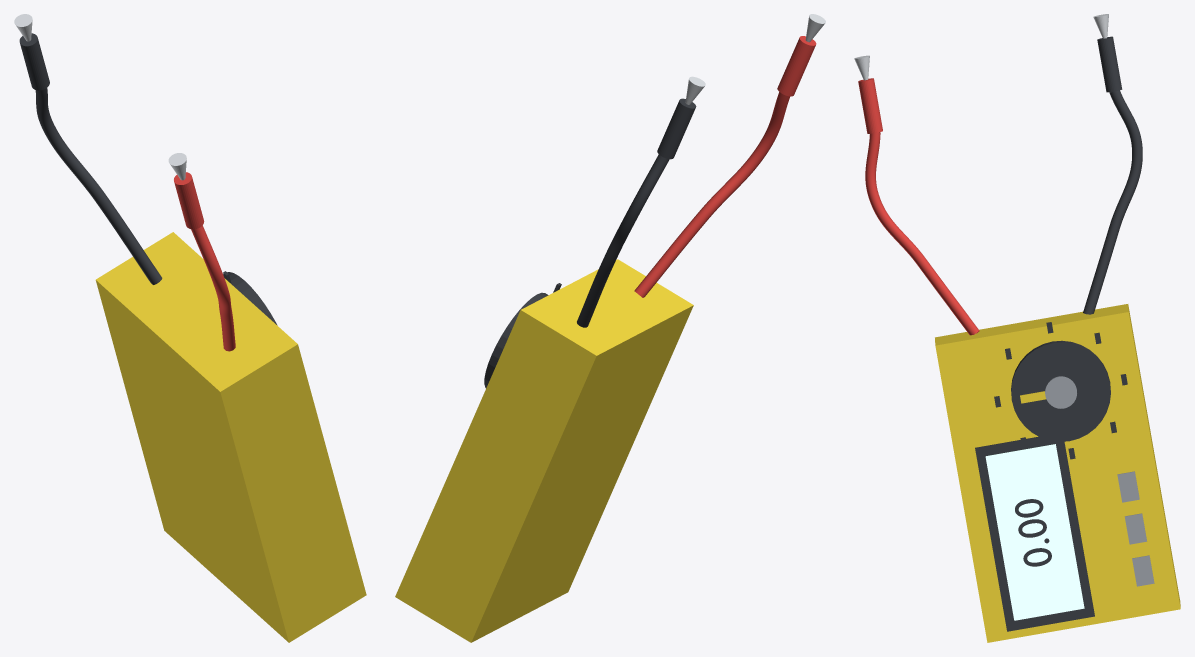
Rendered from voltimetro.glb.
The picture shows the model from 3 angles, left to right: view 1: azimuth 30°, elevation 25°; view 2: azimuth 150°, elevation 25°; view 3: azimuth 270°, elevation 25°; orthographic projection. The views are drawn at different scales.
Visible parts, largest first — view 1: Cuerpo, Cable_negro, Cable_rojo, Sonda_dark, Sonda_red, Selector; view 2: Cuerpo, Cable_rojo, Cable_negro, Sonda_dark, Sonda_red, Selector; view 3: Cuerpo, Pantalla, Selector, Bisel_pantalla, Cable_negro, Cable_rojo, Sonda_dark, Sonda_red, Digitos, Selector_cubo, Boton_00, Boton_01 (+1 smaller).
Boxes of the visible parts, x1,y1,x2,y2 form: Cuerpo: (95,232,366,642); Cable_negro: (35,88,162,284); Cable_rojo: (191,225,235,351); Sonda_dark: (19,33,49,90); Sonda_red: (174,172,204,229); Selector: (223,272,277,325); Cuerpo: (395,259,693,642); Cable_rojo: (634,92,790,297); Cable_negro: (577,154,669,327); Sonda_dark: (657,98,696,159); Sonda_red: (777,36,816,96); Selector: (484,292,548,388); Cuerpo: (935,304,1180,642); Pantalla: (985,444,1084,620); Selector: (1011,340,1110,441); Bisel_pantalla: (975,436,1094,631); Cable_negro: (1083,90,1142,314); Cable_rojo: (865,132,979,335); Sonda_dark: (1097,36,1122,92); Sonda_red: (858,78,882,133); Digitos: (1015,499,1051,566); Selector_cubo: (1045,376,1076,408); Boton_00: (1132,555,1154,586); Boton_01: (1124,513,1146,544).
Size of the model in its own units: 1.59 by 3.33 by 1.83.
